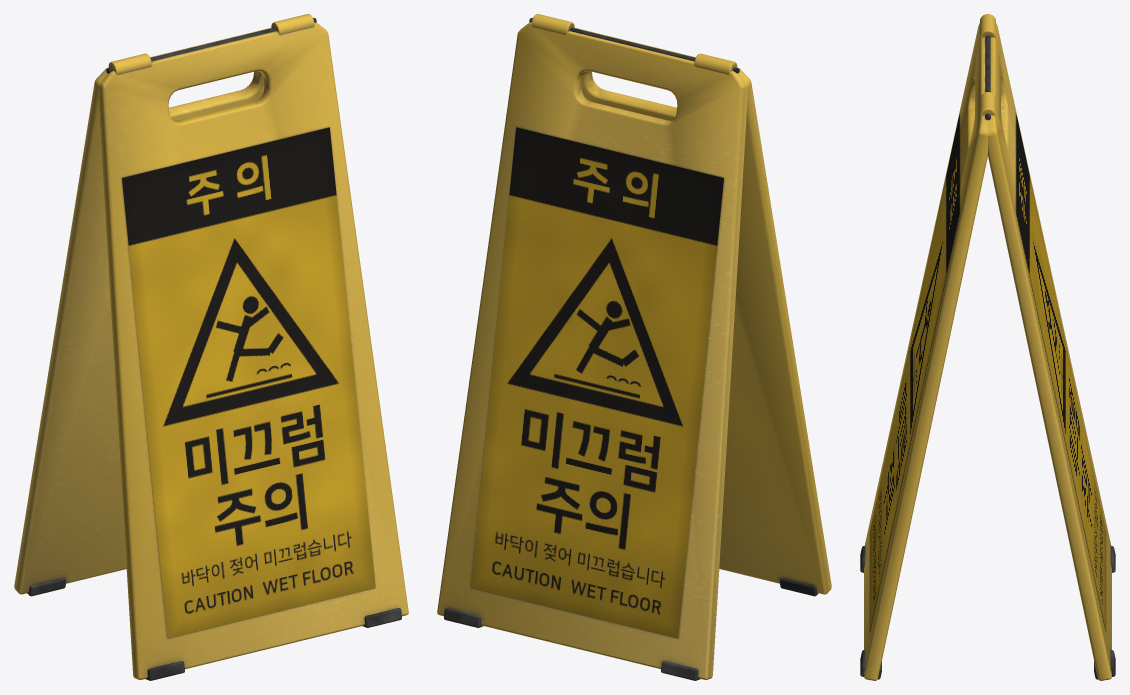
The model's file is StoreWetFloorSign.fbx.
3 views of the same model, side by side, from view 1: azimuth 30°, elevation 25°; view 2: azimuth 150°, elevation 25°; view 3: azimuth 270°, elevation 25° (orthographic).
Parts seen in each view (by area): view 1: StoreWetFloorSign, StoreWetFloorSign_PanelBack; view 2: StoreWetFloorSign_PanelBack, StoreWetFloorSign; view 3: StoreWetFloorSign, StoreWetFloorSign_PanelBack.
Part boxes in pixels (x1,y1,x2,y2): StoreWetFloorSign: [98, 14, 408, 680]; StoreWetFloorSign_PanelBack: [14, 27, 271, 596]; StoreWetFloorSign_PanelBack: [437, 22, 747, 680]; StoreWetFloorSign: [529, 14, 831, 596]; StoreWetFloorSign: [860, 14, 995, 680]; StoreWetFloorSign_PanelBack: [988, 23, 1115, 680].
Size of the model in its own units: 0.2997 by 0.6003 by 0.2486.
